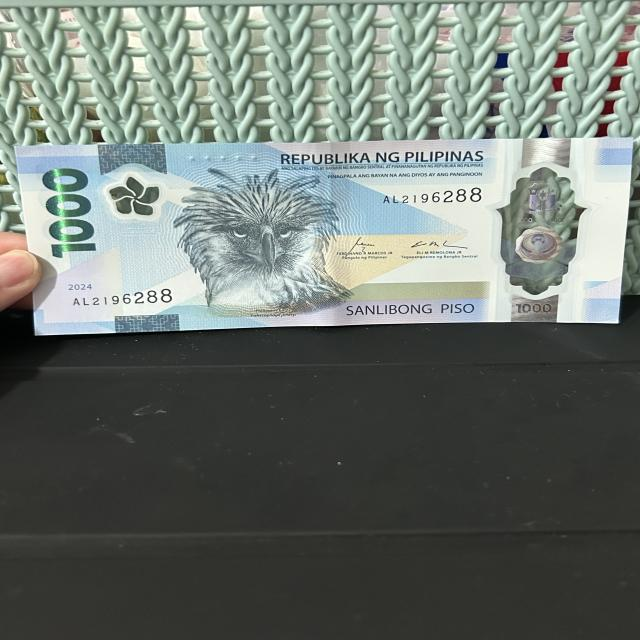clear_window: (490, 158, 581, 300)
eagle: (176, 172, 344, 321)
sampaguita: (102, 182, 166, 222)
